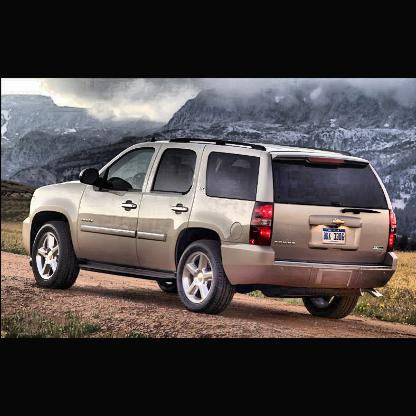Chevrolet Tahoe Hybrid SUV 2012: (22, 137, 399, 322)
